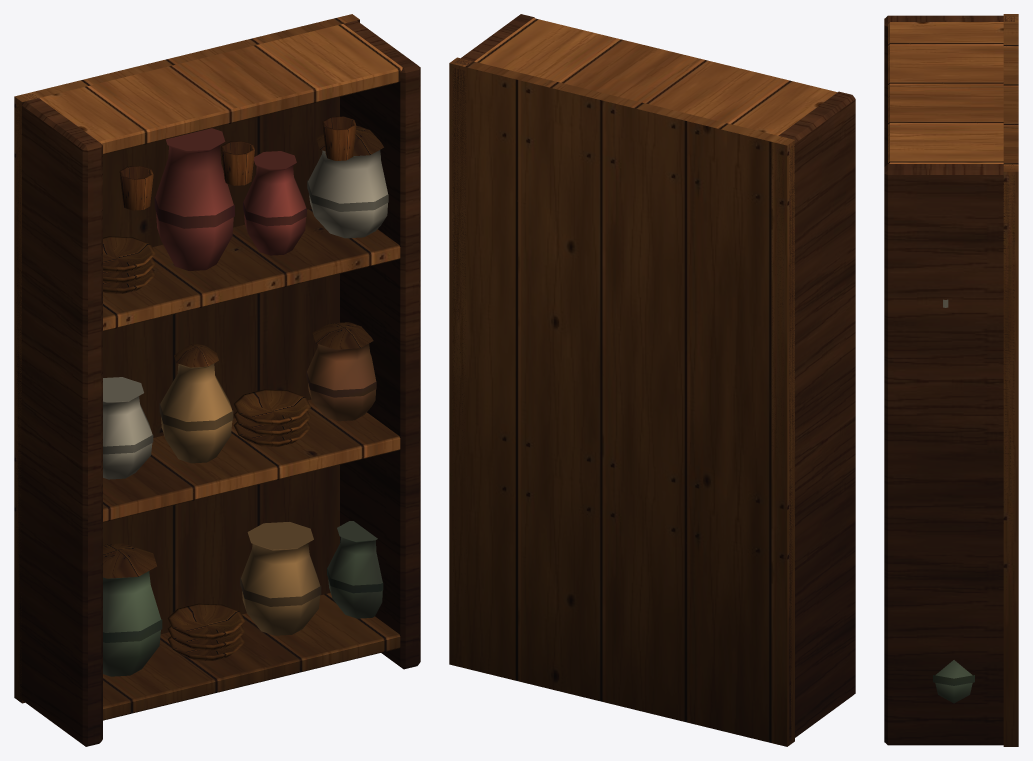
File: interior_shelf.glb
3 renders of one model, left to right at view 1: azimuth 30°, elevation 25°; view 2: azimuth 150°, elevation 25°; view 3: azimuth 270°, elevation 25°, orthographic. The views are drawn at different scales.
Parts seen in each view (by area): view 1: interior_shelf; view 2: interior_shelf; view 3: interior_shelf.
Part boxes in pixels (left/top/right/bottom): interior_shelf: left=14, top=14, right=420, bottom=746; interior_shelf: left=449, top=14, right=855, bottom=746; interior_shelf: left=884, top=14, right=1018, bottom=746.
Bounding box in the file's own units: 1.02 × 1.7 × 0.36.
Materials: 3 (2 with a texture image).
